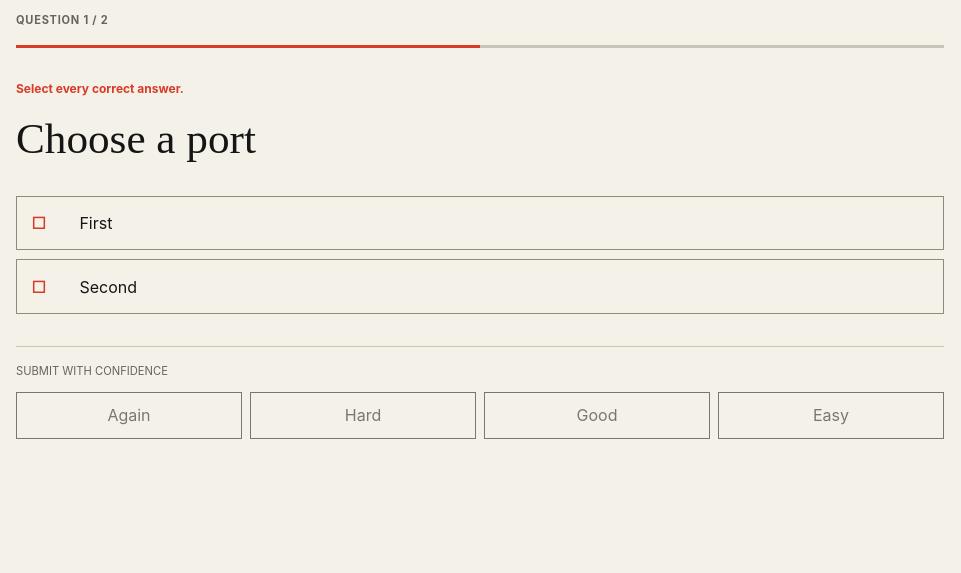
it: supports multiple selections and allows retry after failed submission
Click the text "First".
click(96, 223)  # box [79,213,112,233]
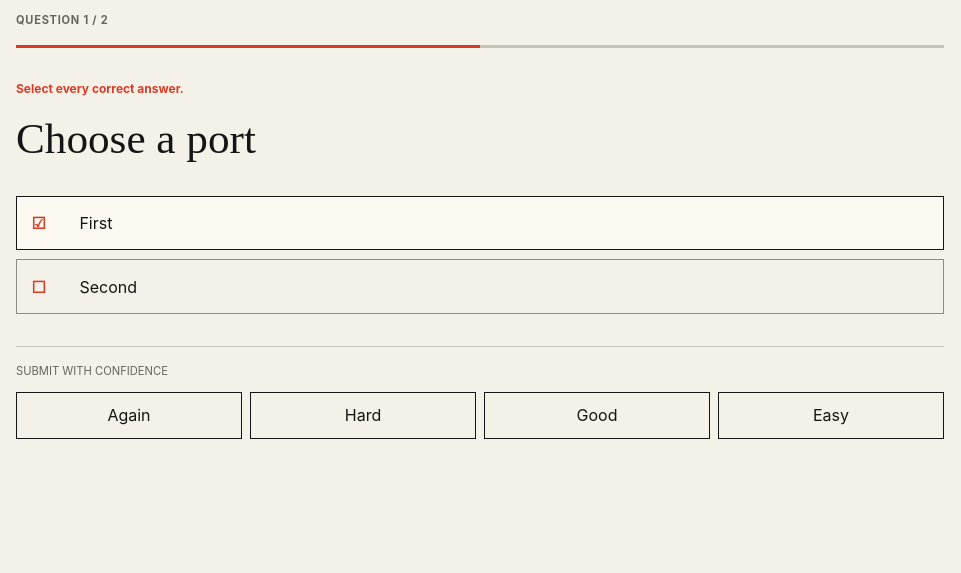
Click the text "Second".
click(108, 287)  # box [79,277,137,297]
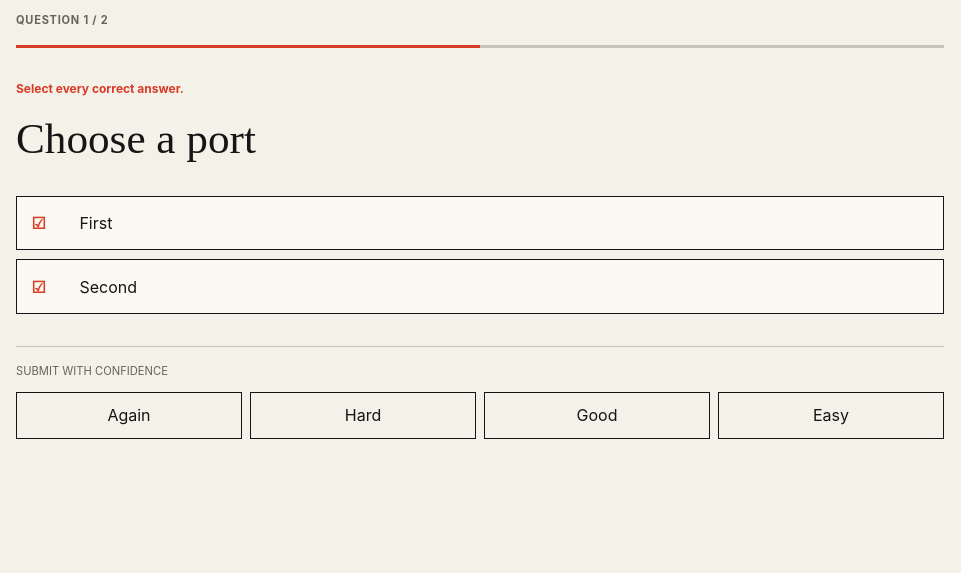
Click the button "Good".
click(597, 415)  # box [484,392,710,439]
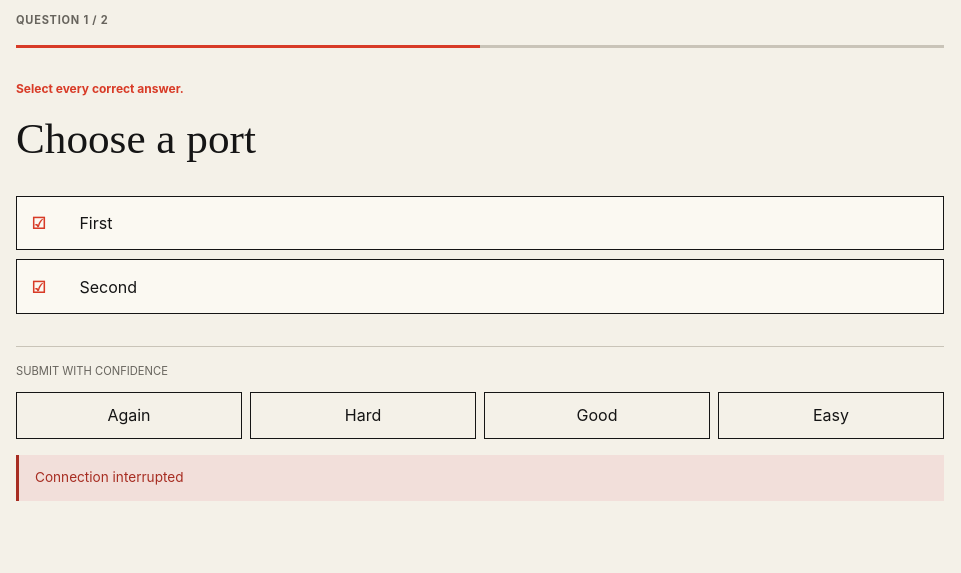
Check: the text "Connection interrupted" is shown, box [16,455,944,501]
Click the button "Good".
click(597, 415)  # box [484,392,710,439]
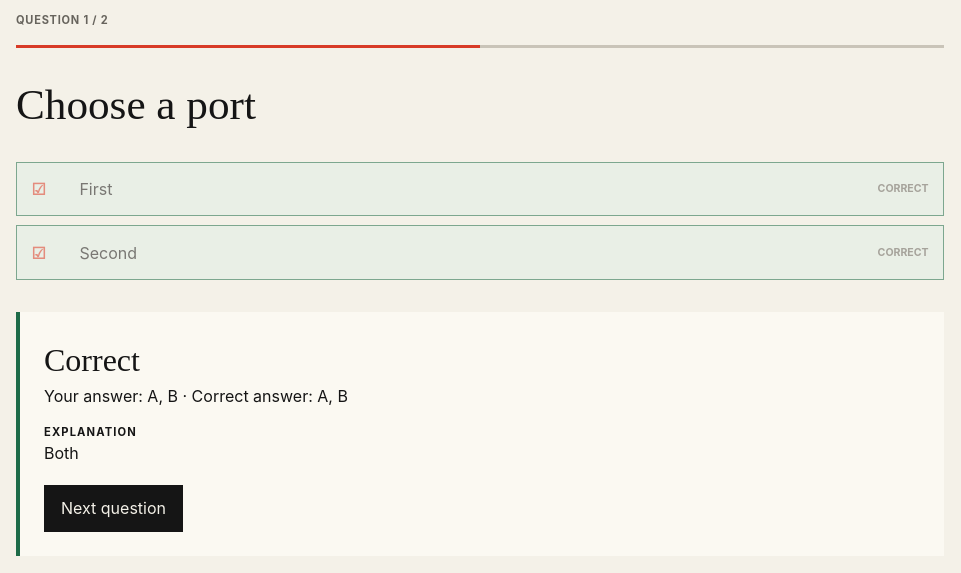
Check: the 1st text "Correct" is shown, box [878,181,929,197]
